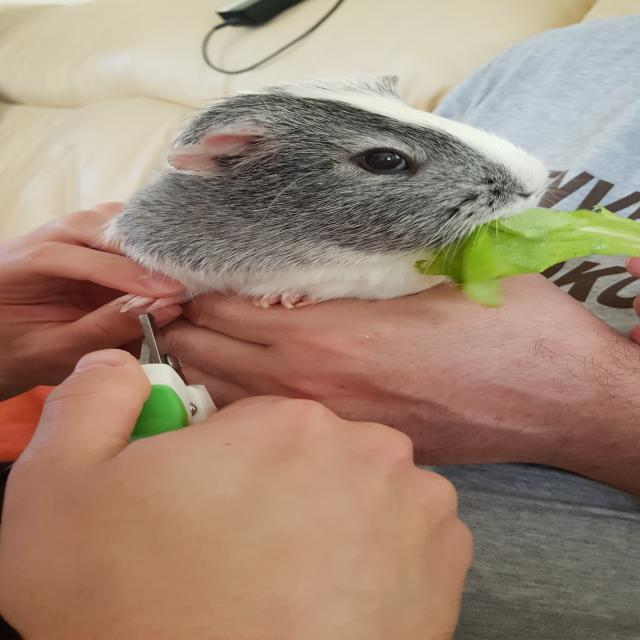guinea pig: (57, 78, 555, 322)
